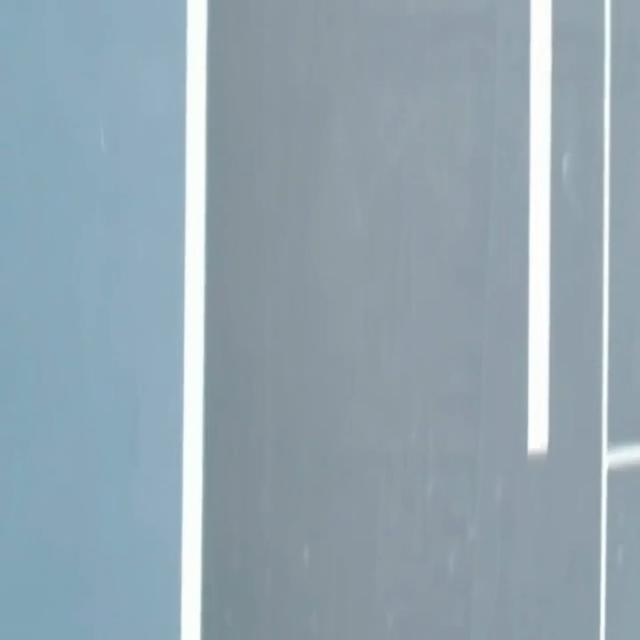center: (527, 0, 551, 455)
left: (180, 0, 207, 639)
